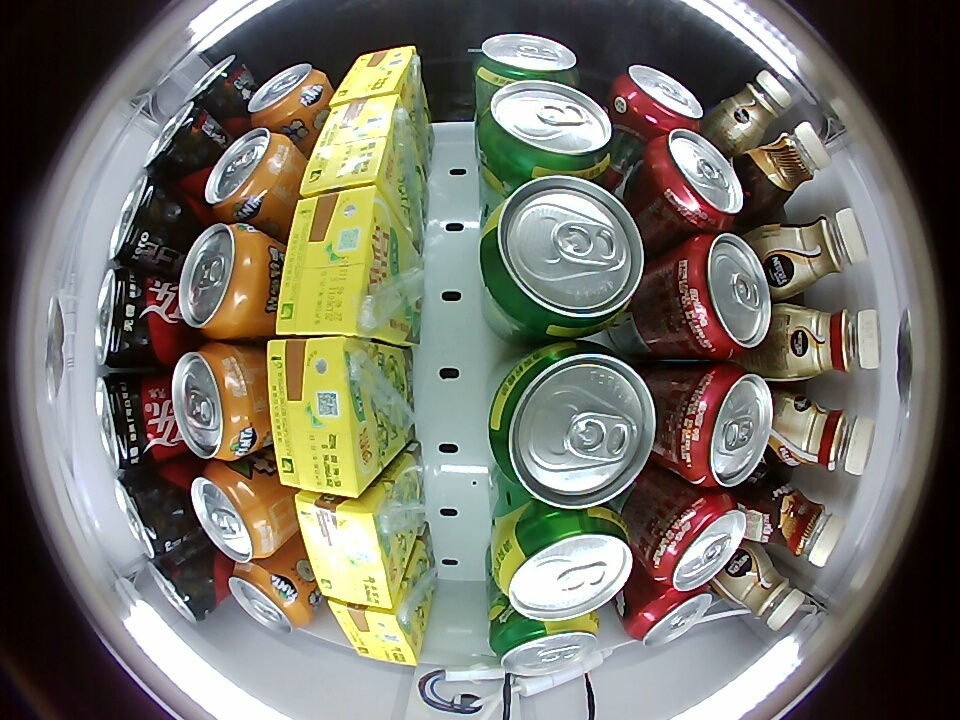fenda: (178, 224, 267, 338), (171, 343, 256, 460), (191, 461, 275, 562), (204, 128, 293, 222), (228, 562, 312, 633), (246, 63, 328, 129)
kafei: (766, 208, 870, 293), (748, 477, 845, 568), (770, 394, 876, 475), (778, 304, 882, 380), (742, 121, 832, 208), (721, 549, 805, 631), (714, 70, 793, 152)
kele: (675, 363, 774, 488), (676, 233, 771, 359), (647, 493, 748, 591), (646, 129, 743, 231), (614, 64, 704, 134), (625, 586, 713, 648)
lingdukele: (107, 173, 176, 271), (113, 468, 186, 559), (95, 267, 160, 369), (148, 546, 222, 624), (96, 372, 155, 468), (143, 102, 214, 176), (184, 54, 250, 112)
weitaningmeng: (275, 185, 396, 337), (266, 337, 380, 496), (295, 490, 405, 609), (300, 95, 409, 197), (328, 599, 424, 666), (329, 45, 422, 109)
xuebi2: (488, 341, 658, 509), (480, 175, 645, 337), (493, 507, 634, 621), (479, 79, 613, 176), (490, 614, 598, 678), (474, 33, 579, 91)
